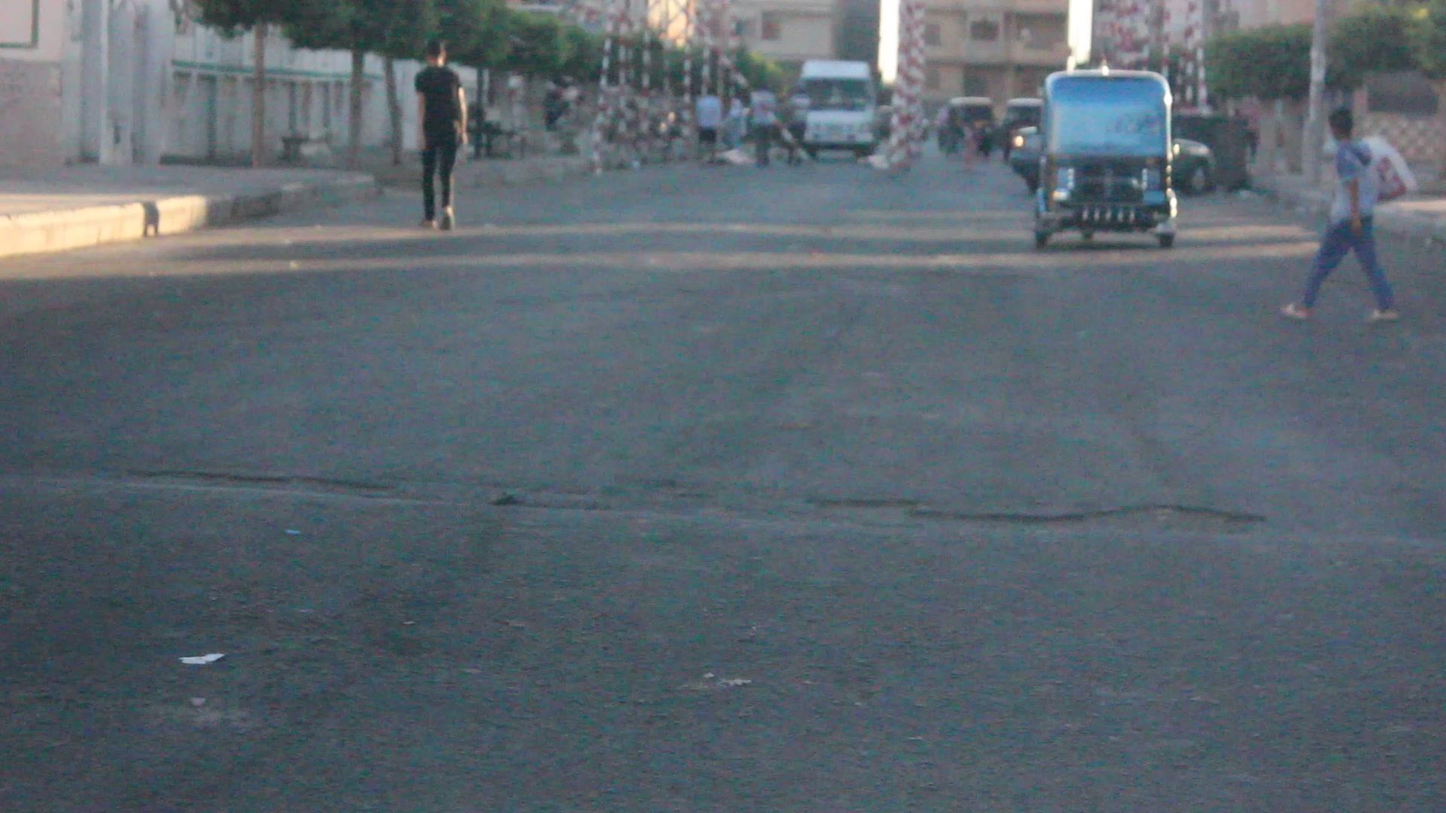Bump: (0, 461, 1446, 693)
